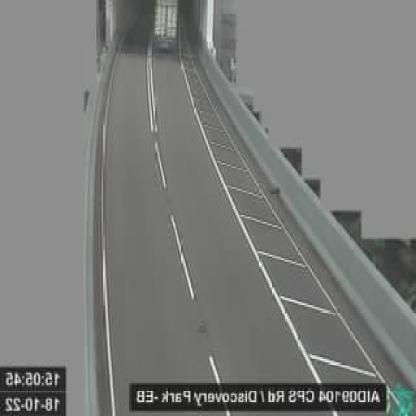Truck: (154, 0, 179, 53)
